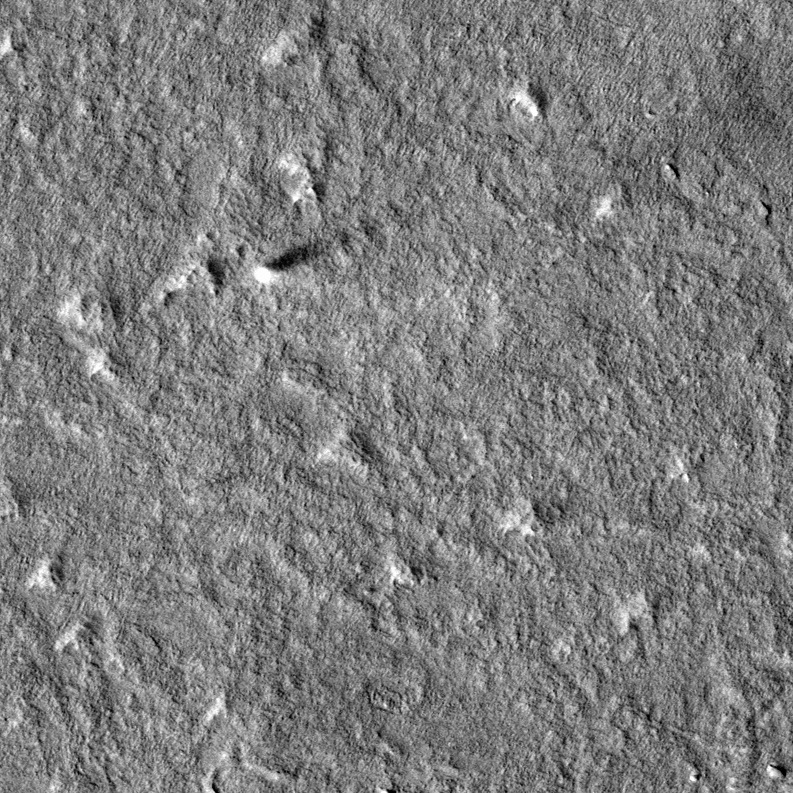dust_devil: (251, 229, 351, 286)
